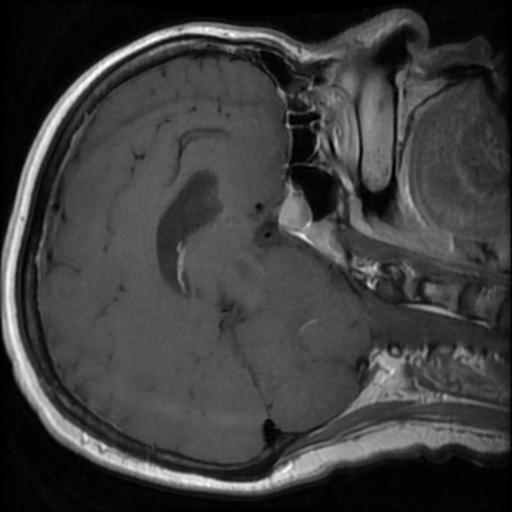pituitary tumour: (279, 195, 312, 230)
